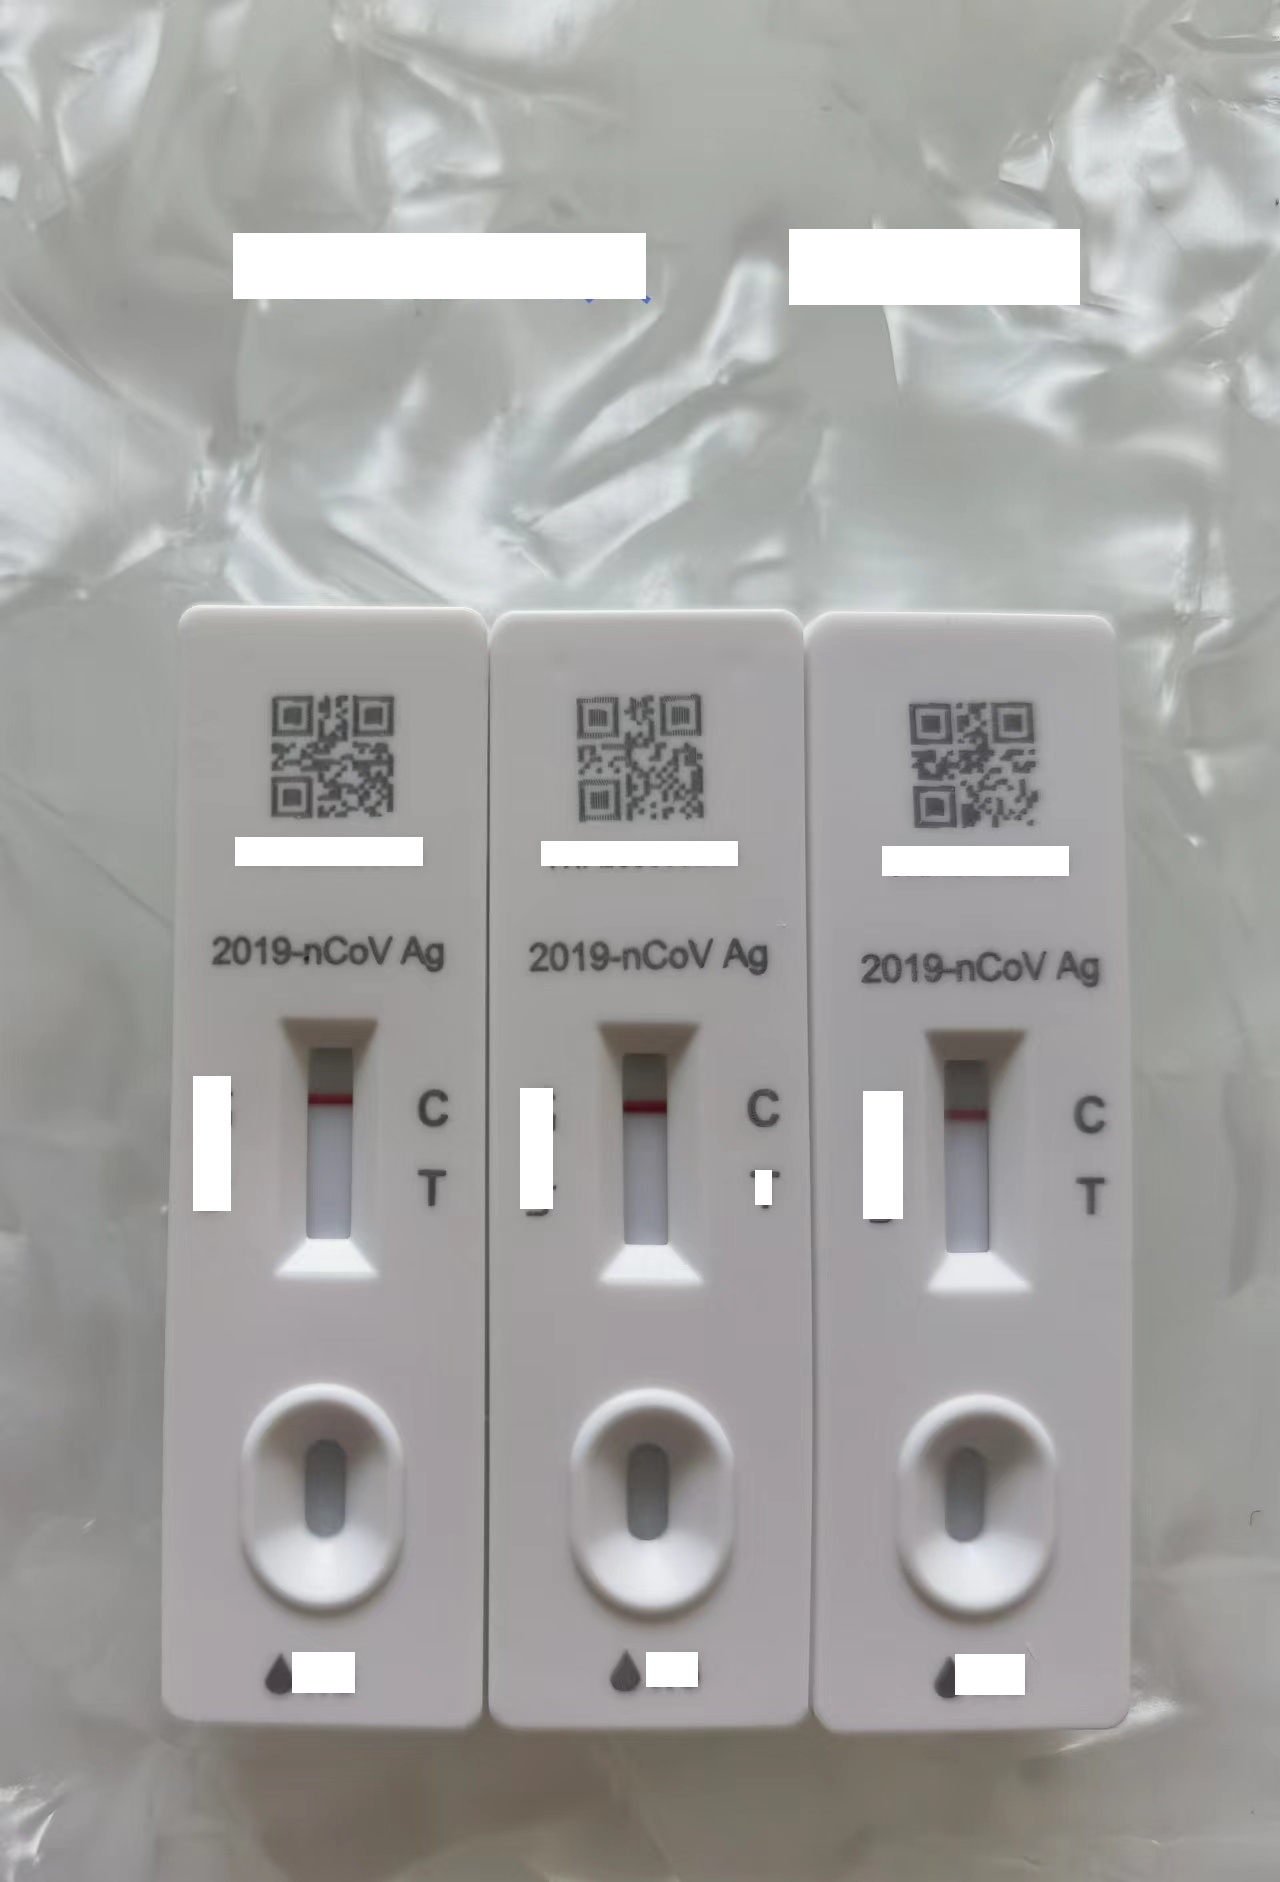negative: (929, 1022, 1026, 1284), (600, 1012, 696, 1272), (283, 1015, 377, 1264)
